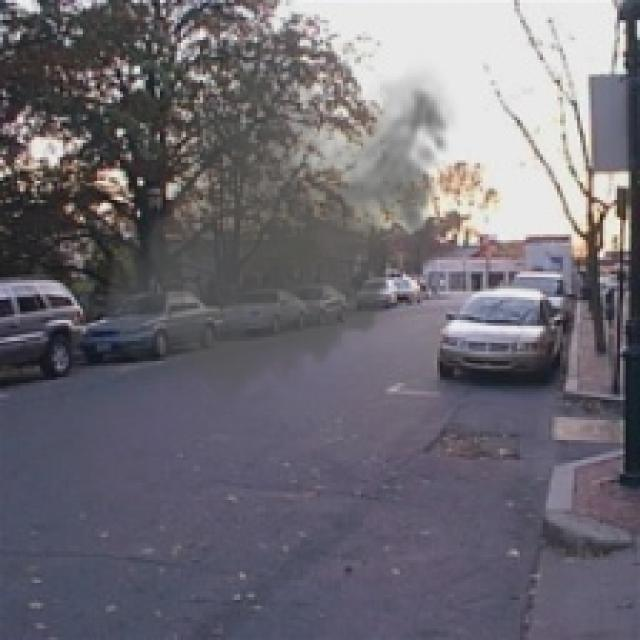Smoke: (97, 49, 460, 418)
